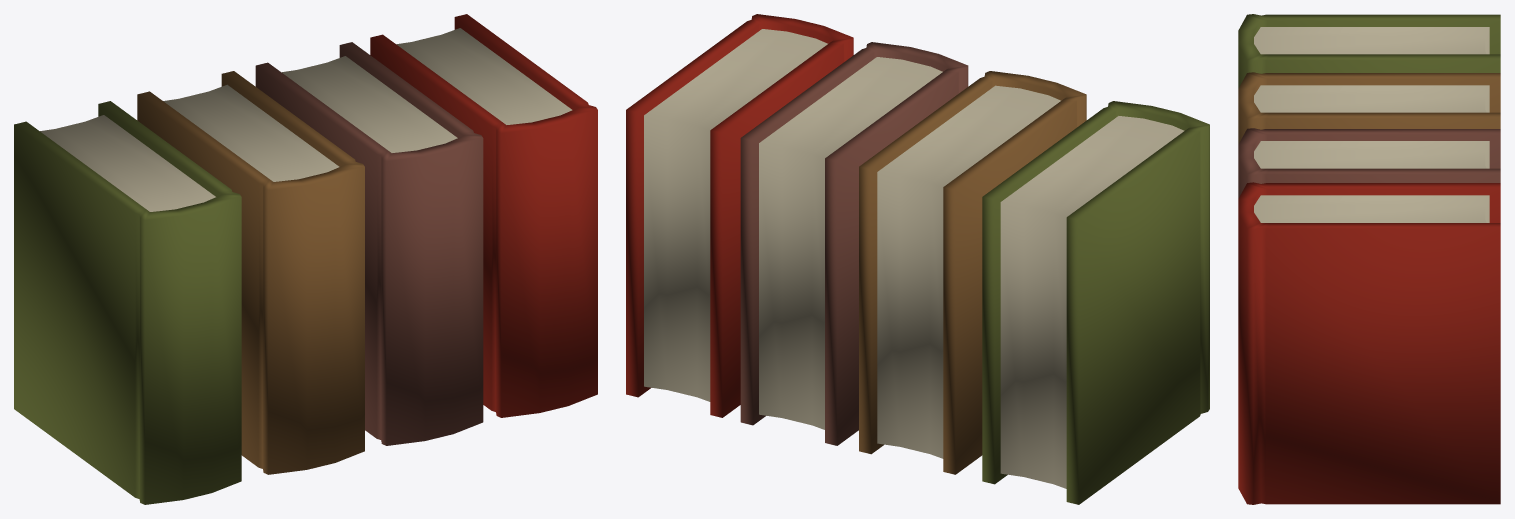
The model's file is book_collection.gltf.
The picture shows the model from 3 angles, left to right: view 1: azimuth 30°, elevation 25°; view 2: azimuth 150°, elevation 25°; view 3: azimuth 270°, elevation 25°; orthographic projection. The views are drawn at different scales.
Visible parts, largest first — view 1: Book_Big_Green, Book_Big_Brown, Book_Big_Red, Book_Big_DeepRed; view 2: Book_Big_Green, Book_Big_Brown, Book_Big_Red, Book_Big_DeepRed; view 3: Book_Big_DeepRed, Book_Big_Green, Book_Big_Brown, Book_Big_Red.
Part boxes in pixels (x1,y1,x2,y2): Book_Big_Green: [14, 101, 241, 504]; Book_Big_Brown: [137, 71, 364, 474]; Book_Big_Red: [255, 42, 483, 445]; Book_Big_DeepRed: [370, 14, 597, 417]; Book_Big_Green: [982, 101, 1209, 504]; Book_Big_Brown: [859, 71, 1086, 474]; Book_Big_Red: [740, 42, 968, 445]; Book_Big_DeepRed: [626, 14, 853, 417]; Book_Big_DeepRed: [1238, 182, 1500, 504]; Book_Big_Green: [1238, 14, 1500, 88]; Book_Big_Brown: [1238, 72, 1500, 143]; Book_Big_Red: [1238, 128, 1500, 198].
Bounding box in the file's own units: 0.7535 × 0.4495 × 0.3881.
2 materials, 2 textured.
